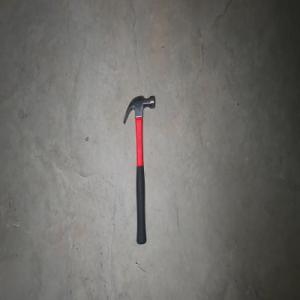Hammer: (122, 94, 155, 245)
